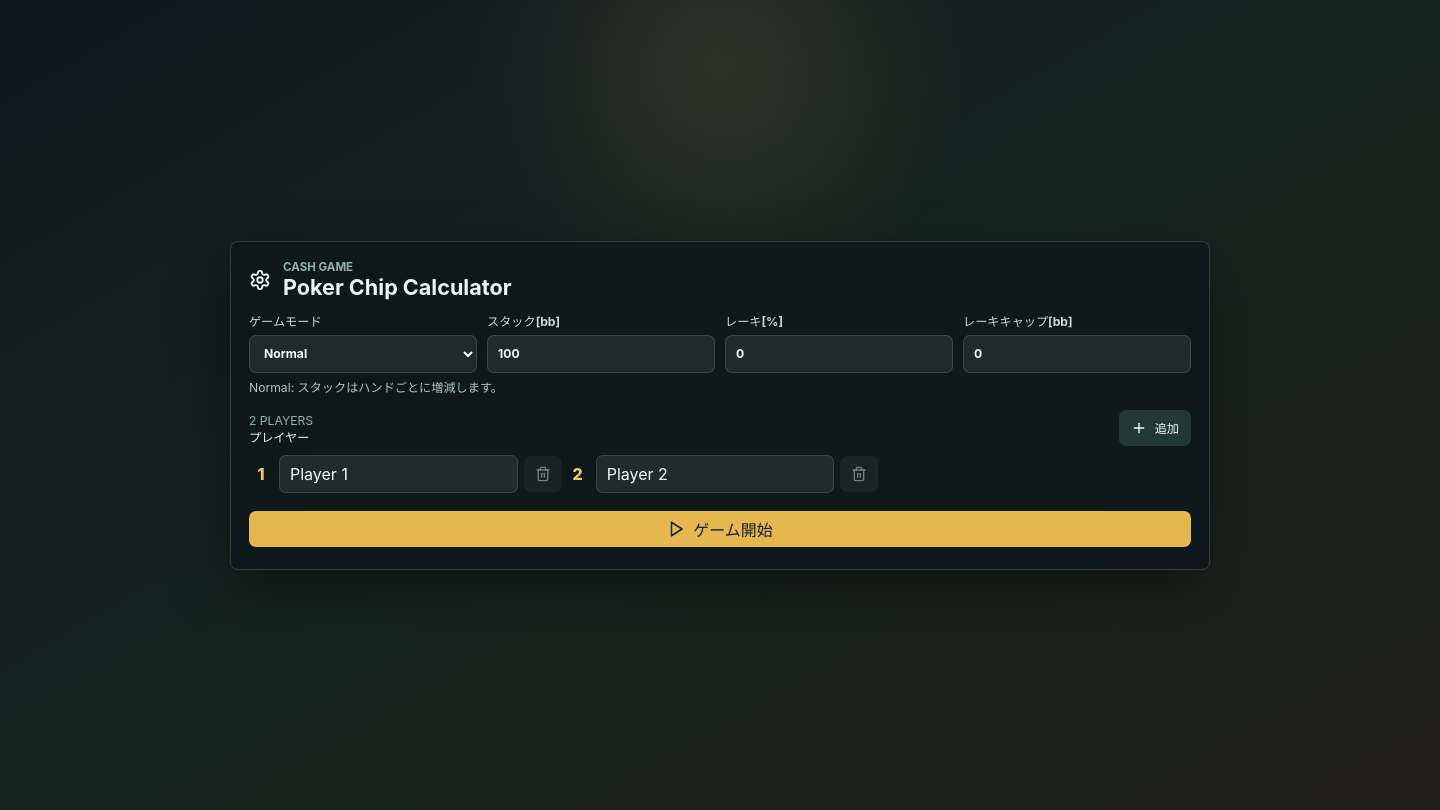
Test: App › resets setup settings after ending a game
The width and height of the screenshot is (1440, 810).
Select "スタック固定" in the dropdown. click: (363, 354)
box: [249, 334, 477, 372]
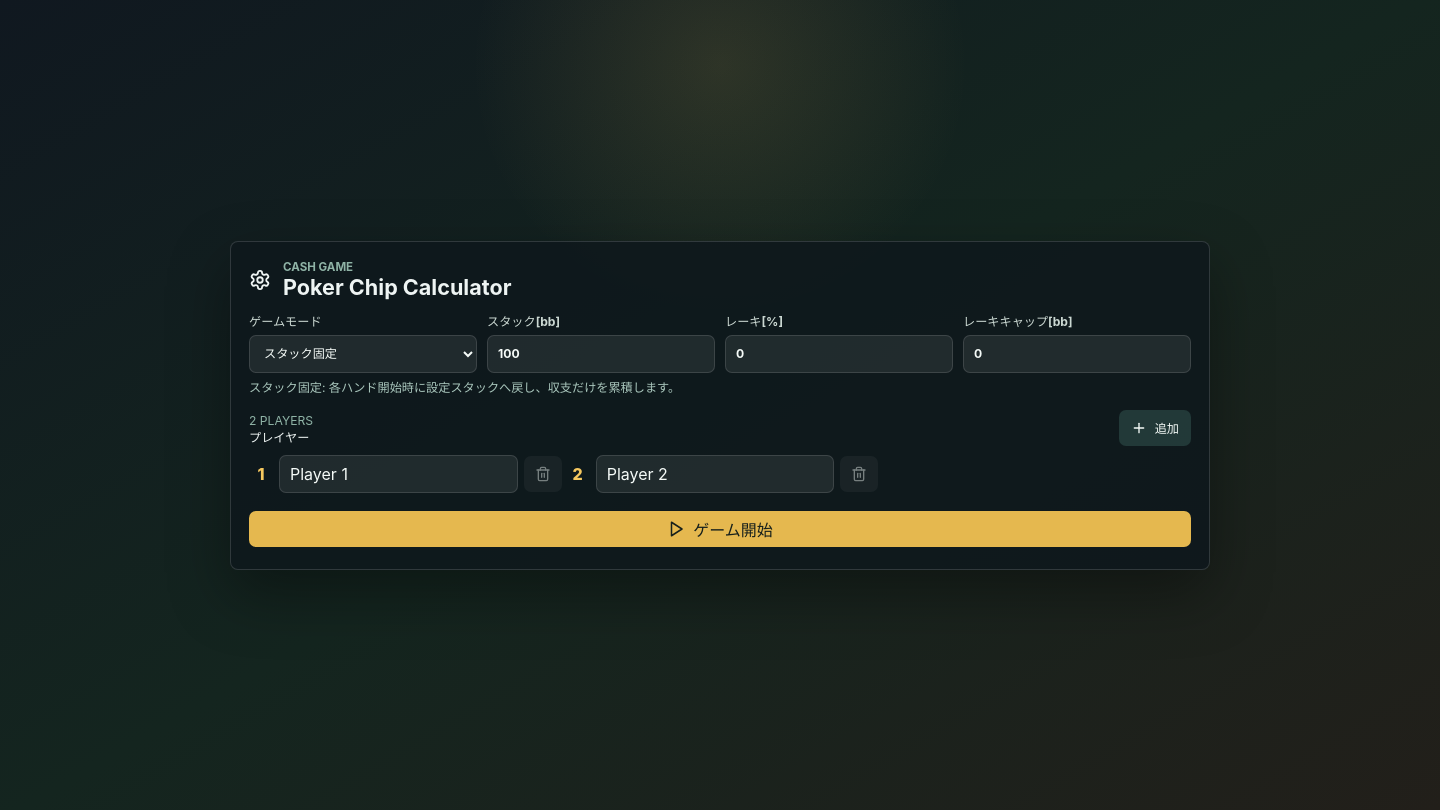
Replace the text in the number field labelled "スタック[bb]" with "40". click: (601, 354)
box: [487, 334, 715, 372]
Replace the text in the number field labelled "レーキ[%]" with "5". click: (839, 354)
box: [725, 334, 953, 372]
Replace the text in the number field labelled "レーキキャップ[bb]" with "2". click: (1077, 354)
box: [963, 334, 1191, 372]
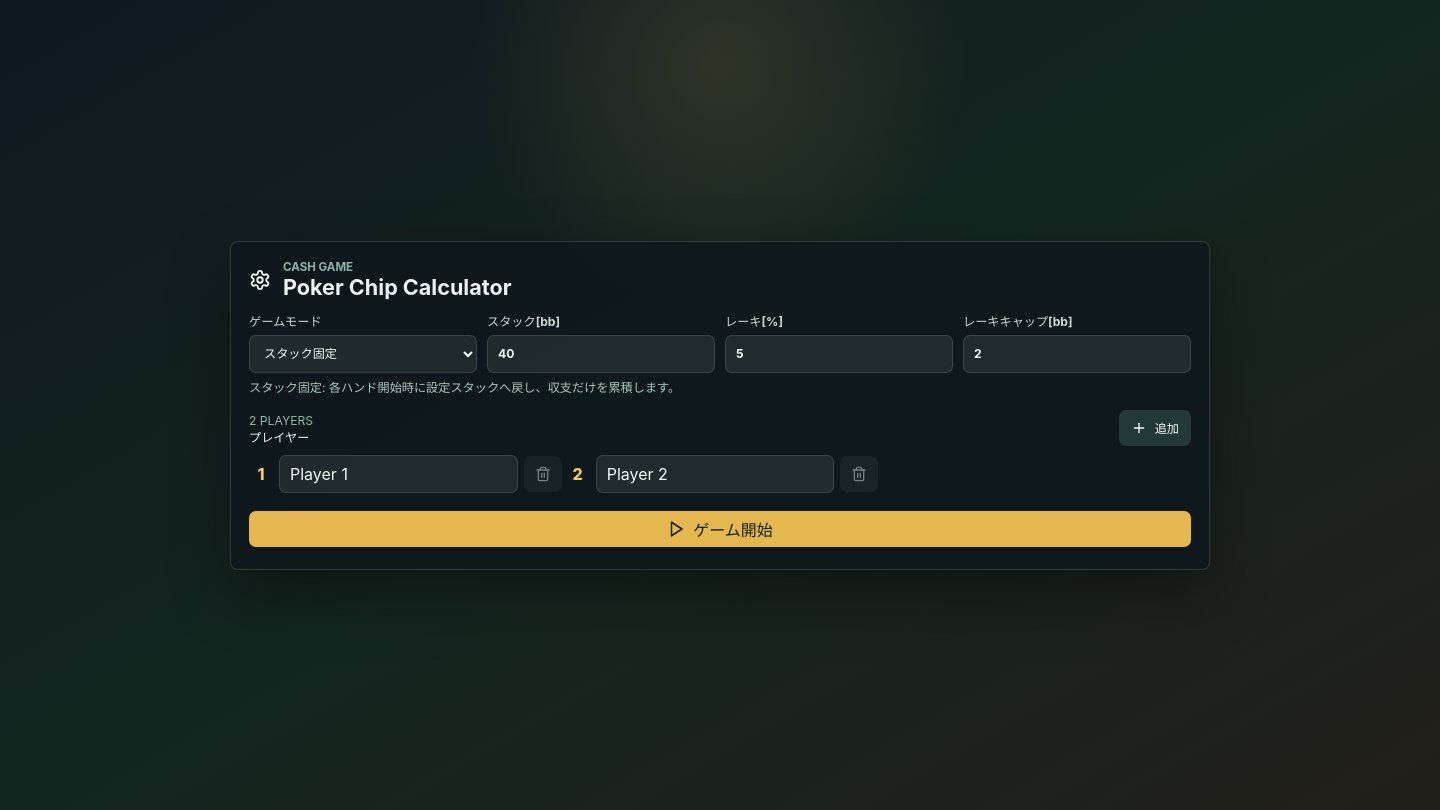
Replace the text in the 1st field showing "Player 1" with "Alice". click: (398, 474)
box: [279, 454, 518, 492]
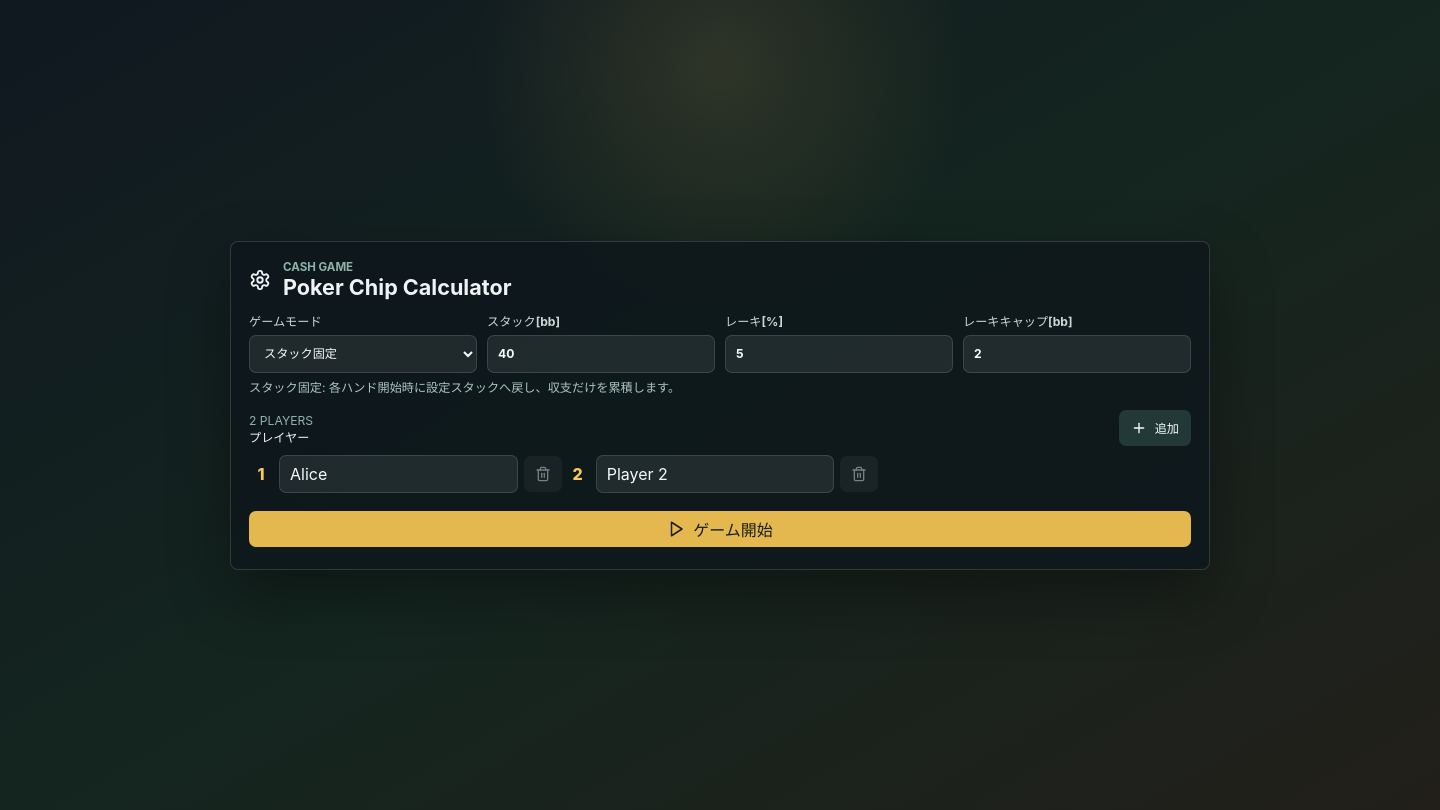
Click the button "ゲーム開始". click: (720, 528)
box: [249, 510, 1191, 546]
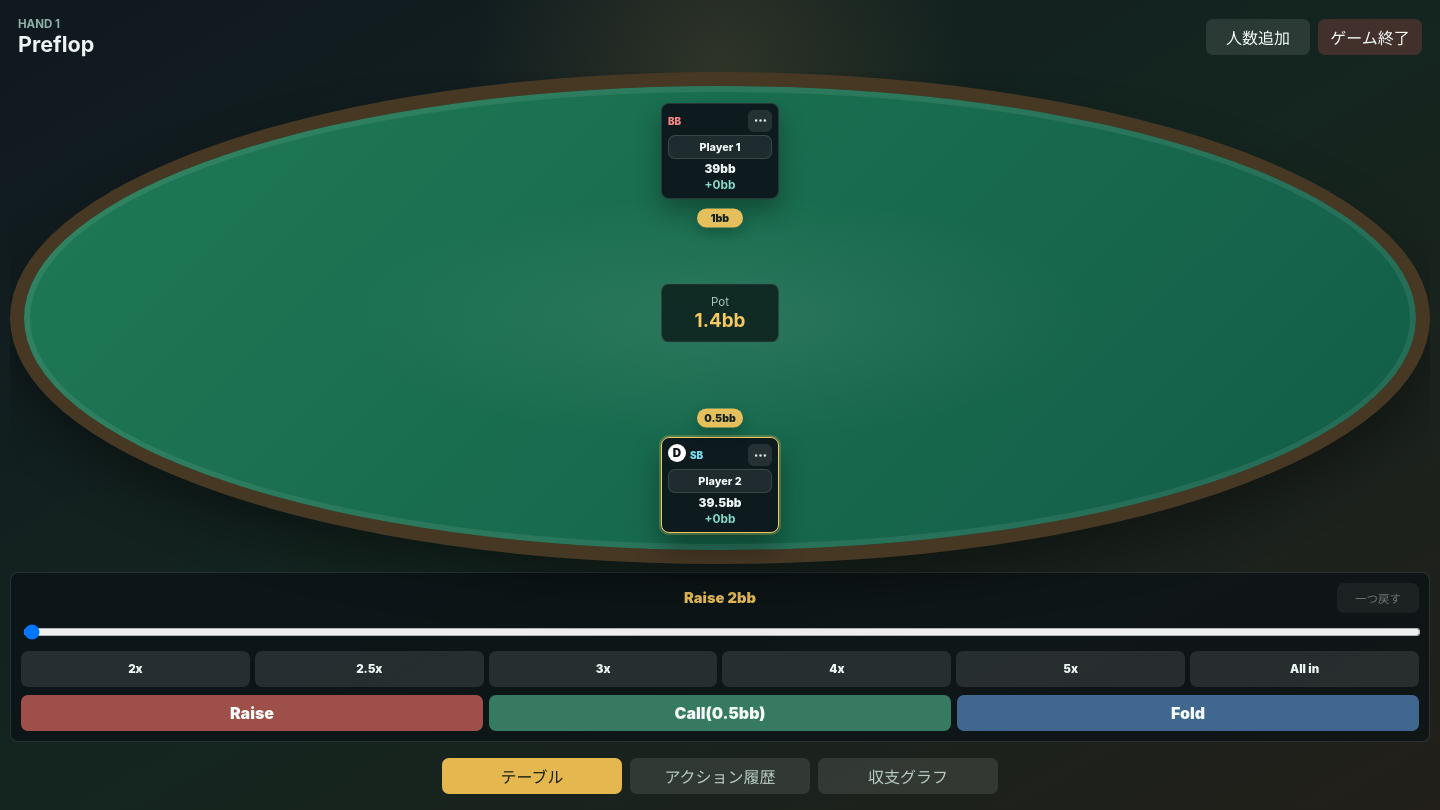
Click the button "ゲーム終了". click: (1370, 37)
box: [1318, 19, 1422, 55]
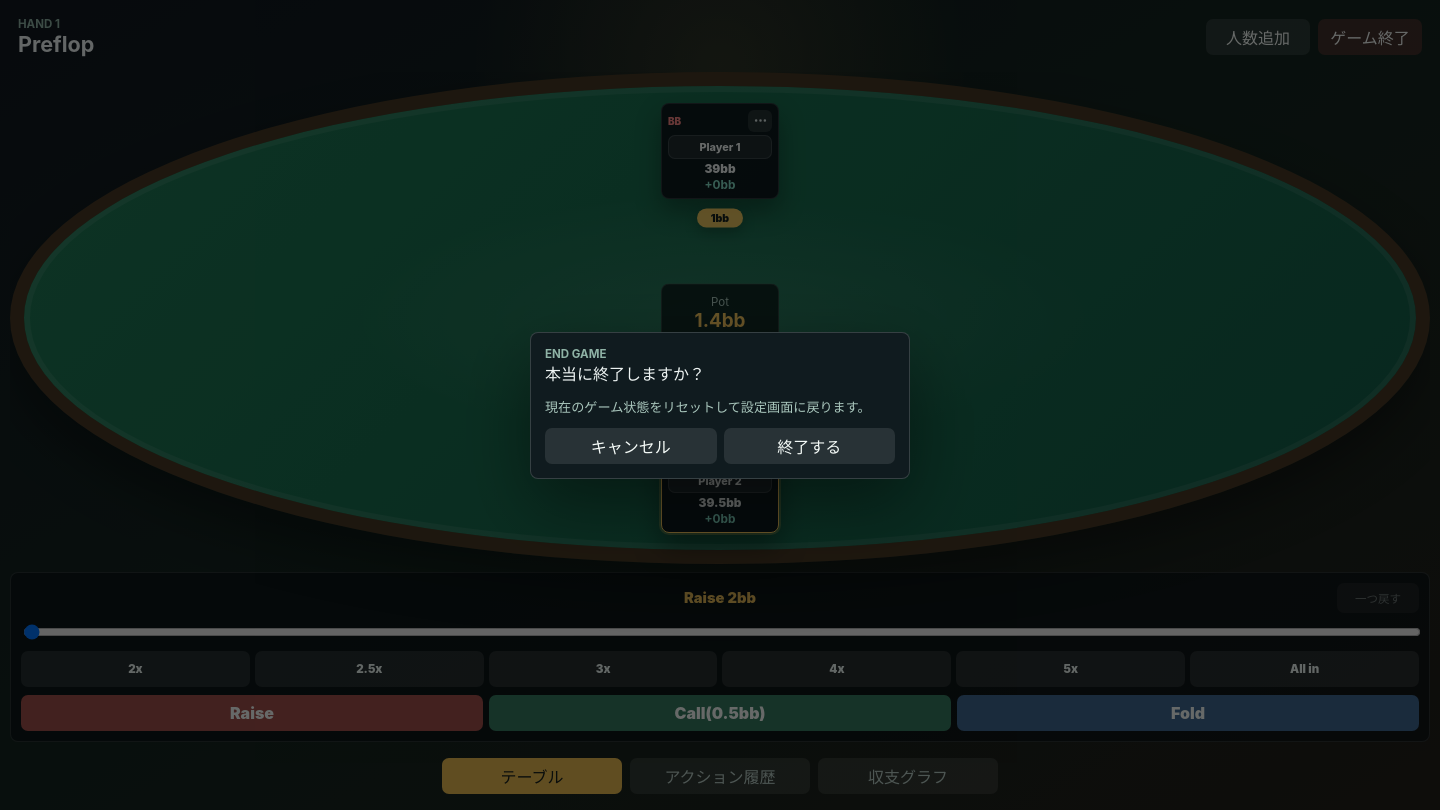
Click the button "終了する". click: (809, 446)
box: [724, 428, 895, 464]
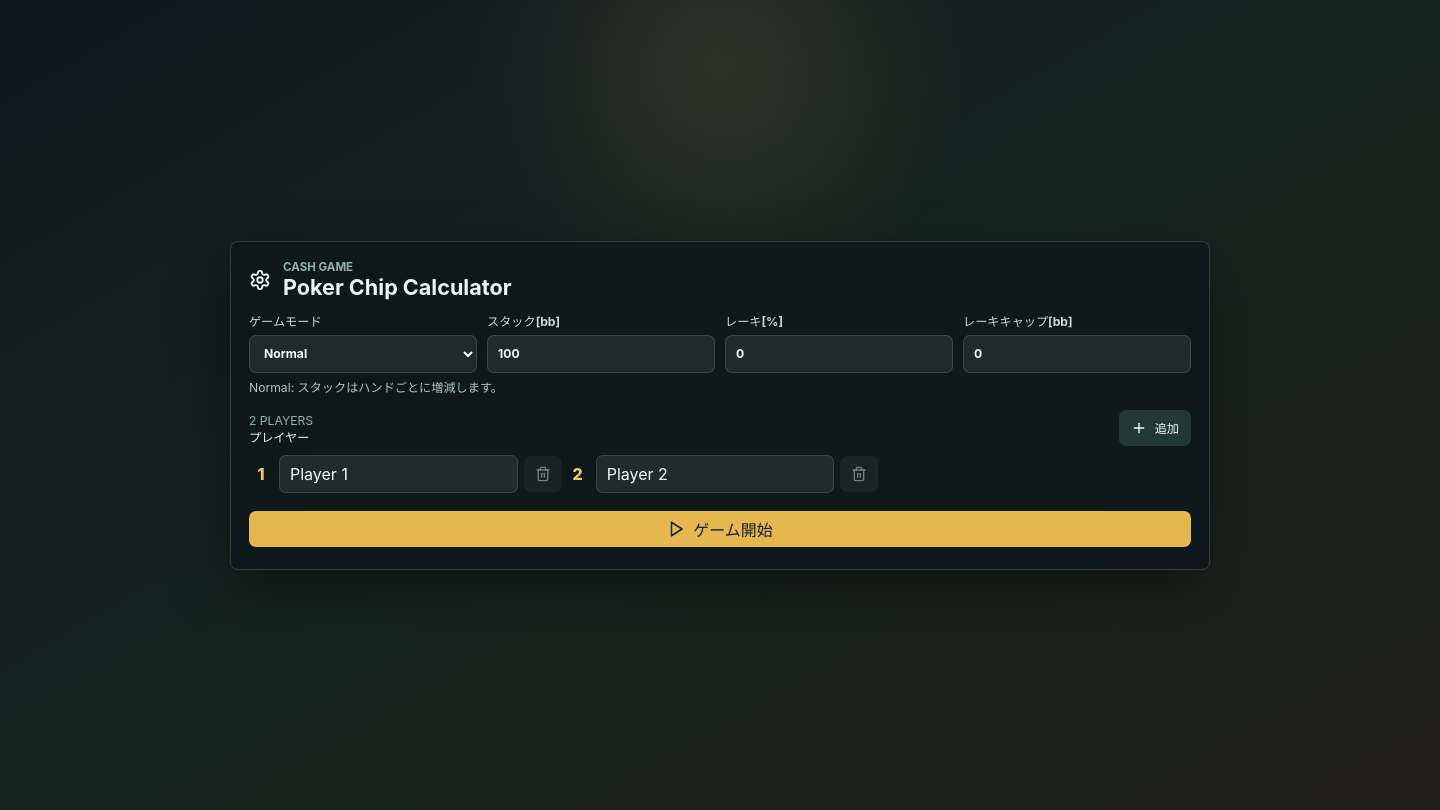
Result: the dropdown shows "Normal" at [249, 334, 477, 372]
Result: the number field labelled "スタック[bb]" holds "100" at [487, 334, 715, 372]
Result: the number field labelled "レーキ[%]" holds "0" at [725, 334, 953, 372]
